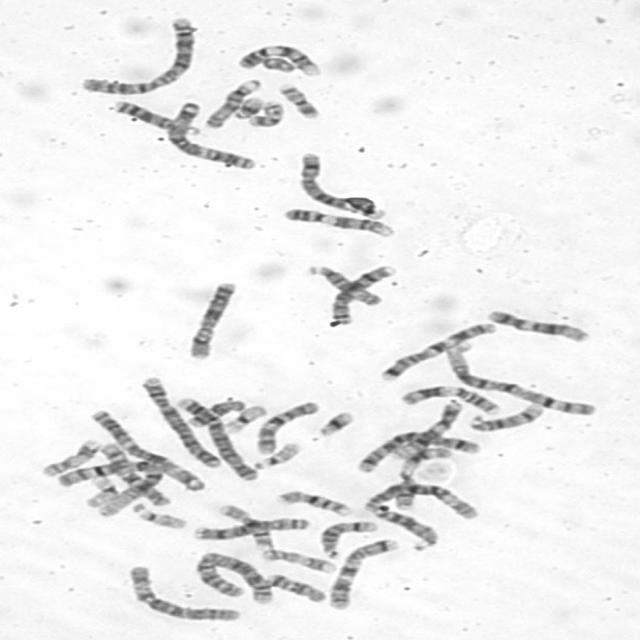A1: (440, 338, 600, 418), (54, 456, 168, 519)
A2: (75, 15, 196, 96), (190, 549, 275, 605)
A3: (86, 407, 209, 492), (162, 99, 258, 170)
B4: (136, 375, 226, 470), (168, 395, 262, 481)
B5: (294, 148, 388, 222), (352, 427, 483, 474)
C10: (95, 442, 176, 508), (252, 398, 322, 457)
C11: (391, 444, 455, 511), (395, 382, 502, 415)
C12: (392, 397, 466, 460), (481, 306, 592, 344)
C6: (124, 563, 243, 623), (358, 478, 482, 521)
C7: (376, 320, 501, 382), (325, 535, 403, 611)
C8: (326, 262, 400, 327), (190, 517, 311, 541)
C9: (278, 205, 396, 239), (232, 41, 326, 77)
D13: (108, 98, 202, 136), (368, 504, 442, 552)
D14: (316, 518, 379, 560), (466, 400, 546, 432)
D15: (302, 262, 385, 307), (200, 76, 264, 130)
E16: (214, 502, 276, 550), (273, 488, 354, 517)
E17: (36, 436, 104, 478), (258, 546, 337, 574)
E18: (180, 396, 249, 429), (262, 571, 328, 604)
F19: (219, 402, 270, 434), (85, 473, 120, 507)
F20: (274, 80, 324, 120), (245, 99, 284, 128)
G21: (313, 408, 357, 436), (230, 94, 266, 120)
G22: (128, 502, 189, 530), (250, 440, 303, 470)
X: (184, 278, 241, 362)
